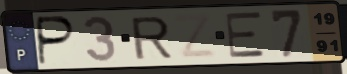3: (81, 14, 118, 65)
7: (269, 8, 305, 60)
E: (223, 10, 269, 60)
P: (36, 14, 78, 67)
R: (129, 14, 175, 62)
Z: (172, 12, 220, 60)
